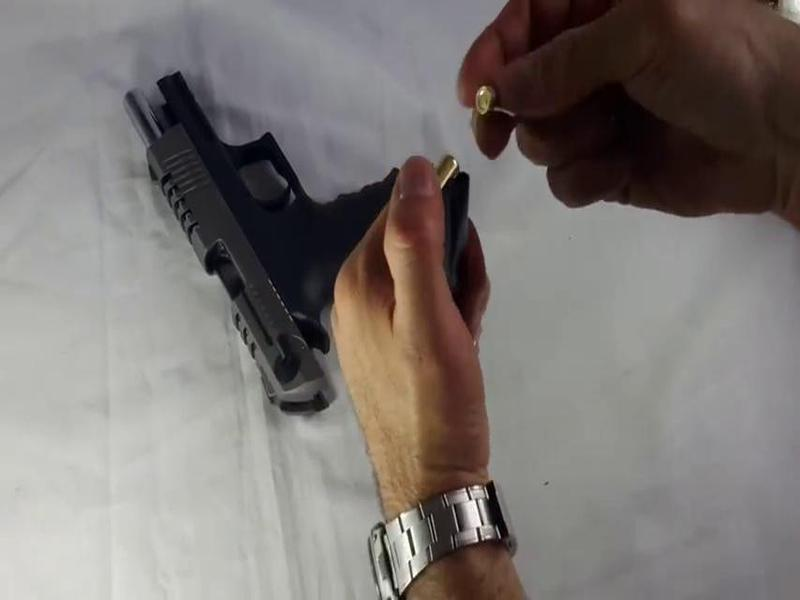Pistola: (116, 58, 453, 417)
